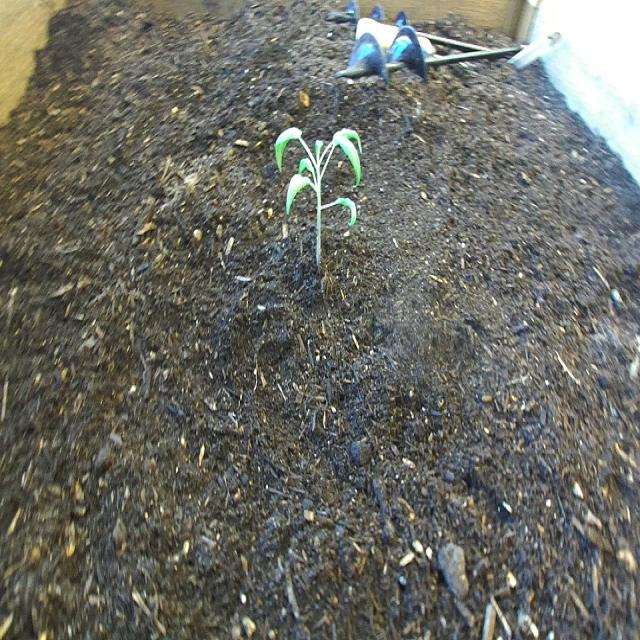Healthy: (268, 111, 368, 279)
